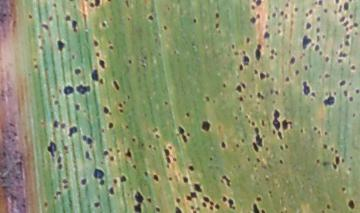tarspot: (272, 109, 281, 131), (178, 126, 188, 144), (254, 127, 263, 147), (47, 141, 57, 157), (75, 84, 90, 94), (323, 95, 335, 107), (302, 80, 311, 96), (93, 167, 105, 179), (302, 34, 311, 49), (134, 190, 144, 203), (82, 134, 93, 145), (163, 149, 171, 164), (64, 85, 74, 96), (282, 119, 292, 130), (69, 126, 78, 138), (201, 121, 210, 133), (70, 20, 78, 33), (91, 69, 99, 82), (255, 44, 261, 61), (193, 183, 203, 193), (222, 175, 231, 186), (57, 39, 65, 51), (242, 55, 250, 66), (228, 198, 236, 209), (348, 199, 355, 211), (256, 91, 265, 100), (133, 204, 142, 213), (337, 50, 347, 58), (252, 203, 260, 213), (108, 186, 116, 196), (85, 150, 92, 161), (343, 1, 350, 12), (98, 59, 106, 68), (249, 16, 257, 25), (202, 195, 211, 203), (56, 86, 64, 95), (40, 23, 50, 30), (252, 142, 259, 152), (113, 80, 119, 91), (92, 39, 100, 47), (52, 120, 60, 128), (338, 79, 346, 87), (190, 191, 198, 199), (73, 68, 82, 75), (259, 72, 266, 81), (214, 11, 221, 20), (305, 21, 312, 30), (126, 148, 132, 158), (278, 132, 284, 142), (74, 103, 81, 111), (235, 85, 242, 93), (240, 81, 247, 89), (349, 63, 356, 71), (343, 19, 350, 27), (182, 175, 189, 183), (331, 162, 338, 170), (120, 175, 128, 182), (56, 155, 62, 164), (260, 118, 266, 127), (214, 21, 220, 30), (344, 39, 350, 48), (289, 56, 295, 65), (153, 173, 159, 182), (335, 155, 340, 165), (65, 15, 72, 22), (124, 1, 131, 8), (255, 157, 262, 164), (339, 15, 346, 22), (264, 32, 271, 39), (175, 206, 182, 213), (31, 55, 38, 62), (187, 165, 195, 171), (205, 95, 211, 103), (220, 141, 226, 149), (269, 88, 275, 96), (323, 73, 331, 79), (143, 169, 149, 177), (112, 177, 118, 185), (81, 178, 87, 186), (104, 105, 109, 114), (266, 70, 271, 79), (148, 15, 155, 21), (108, 123, 115, 129), (62, 145, 69, 151), (57, 163, 63, 170), (102, 150, 109, 156), (131, 164, 138, 170), (154, 133, 160, 140), (278, 159, 284, 166), (271, 129, 277, 136), (239, 137, 245, 144), (238, 96, 245, 102), (303, 64, 309, 71), (293, 69, 300, 75), (332, 8, 338, 15), (338, 42, 344, 49), (270, 48, 276, 55), (312, 125, 318, 132), (267, 188, 273, 195), (175, 197, 181, 204), (155, 206, 161, 213), (341, 186, 347, 193), (322, 161, 329, 167), (55, 190, 62, 196), (43, 201, 49, 208), (99, 76, 104, 84), (192, 17, 197, 25), (143, 53, 148, 61), (36, 34, 44, 39), (279, 144, 284, 152), (343, 89, 348, 97), (239, 63, 244, 71), (315, 44, 320, 52), (51, 2, 57, 8), (60, 123, 66, 129), (53, 99, 59, 105), (115, 148, 121, 154), (125, 94, 131, 100), (163, 100, 169, 106), (130, 136, 136, 142), (152, 127, 158, 133), (171, 156, 177, 162), (167, 144, 173, 150), (185, 131, 191, 137), (244, 114, 250, 120), (233, 115, 239, 121), (248, 93, 254, 99), (253, 69, 259, 75), (230, 44, 236, 50), (255, 13, 261, 19), (250, 5, 256, 11), (353, 22, 359, 28), (345, 33, 351, 39), (323, 130, 329, 136), (222, 196, 228, 202), (185, 195, 191, 201), (28, 13, 33, 20), (123, 124, 130, 129), (109, 155, 114, 162), (185, 111, 190, 118), (349, 96, 354, 103), (275, 89, 280, 96), (222, 82, 227, 89), (348, 80, 353, 87), (285, 76, 290, 83), (337, 58, 344, 63), (325, 56, 330, 63), (270, 75, 275, 82), (242, 49, 247, 56), (255, 1, 262, 6), (284, 13, 289, 20), (349, 13, 354, 20), (215, 203, 220, 210), (147, 197, 152, 204), (93, 202, 100, 207), (62, 179, 69, 184), (102, 21, 106, 29), (101, 126, 105, 134), (238, 104, 242, 112), (338, 5, 342, 13), (95, 1, 100, 7), (90, 2, 95, 8), (48, 16, 54, 21), (34, 64, 39, 70), (71, 54, 76, 60), (109, 44, 114, 50), (118, 108, 124, 113), (107, 146, 112, 152), (166, 6, 171, 12), (147, 143, 152, 149), (165, 164, 171, 169), (265, 146, 270, 152), (311, 91, 316, 97), (235, 143, 240, 149), (233, 51, 239, 56), (272, 12, 277, 18), (266, 14, 271, 20), (280, 10, 285, 16), (323, 8, 328, 14), (349, 24, 354, 30), (354, 31, 359, 37), (277, 21, 282, 27), (316, 16, 321, 22), (322, 33, 327, 39), (323, 144, 328, 150), (256, 197, 262, 202), (202, 202, 208, 207), (316, 158, 321, 164), (301, 51, 306, 57), (264, 177, 270, 182), (265, 43, 271, 48), (287, 49, 292, 55), (246, 37, 250, 44), (317, 27, 321, 34), (285, 143, 289, 150), (118, 103, 123, 108), (122, 100, 127, 105), (126, 17, 131, 22), (141, 64, 146, 69), (39, 45, 44, 50), (140, 142, 145, 147), (208, 156, 213, 161), (251, 121, 256, 126), (355, 89, 360, 94), (284, 3, 289, 8), (294, 7, 299, 12), (345, 27, 350, 32), (269, 55, 274, 60), (264, 24, 269, 29), (210, 201, 215, 206), (168, 176, 173, 181), (100, 180, 105, 185), (96, 51, 100, 57), (163, 25, 167, 31), (246, 158, 252, 162), (334, 1, 340, 5), (317, 36, 321, 42), (300, 128, 304, 134), (334, 148, 338, 154), (208, 206, 214, 210), (192, 209, 198, 213), (327, 203, 331, 209), (63, 185, 69, 189), (128, 60, 132, 65), (352, 112, 356, 117), (247, 120, 252, 124), (309, 9, 313, 14), (305, 12, 309, 17), (314, 1, 318, 6), (319, 1, 323, 6), (319, 52, 323, 57), (277, 29, 281, 34), (312, 42, 316, 47), (330, 146, 334, 151), (261, 209, 266, 213), (197, 206, 201, 211), (190, 205, 195, 209), (349, 155, 353, 160), (66, 1, 75, 3), (333, 91, 337, 95), (321, 209, 325, 213), (349, 168, 353, 172), (342, 158, 345, 163), (275, 52, 278, 56), (107, 1, 112, 2)
